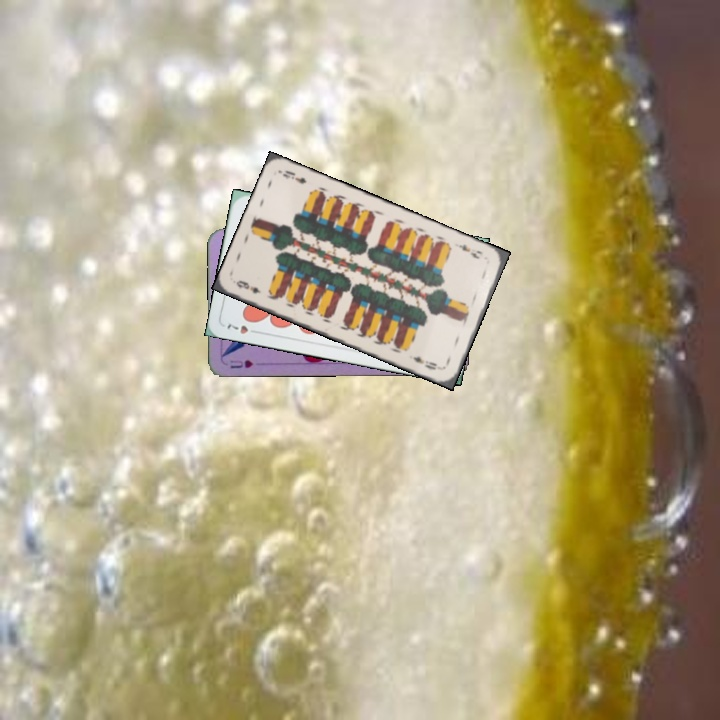E9: (454, 240, 485, 262), (232, 276, 264, 296)
H7: (223, 320, 262, 337)
HU: (226, 355, 256, 371)
